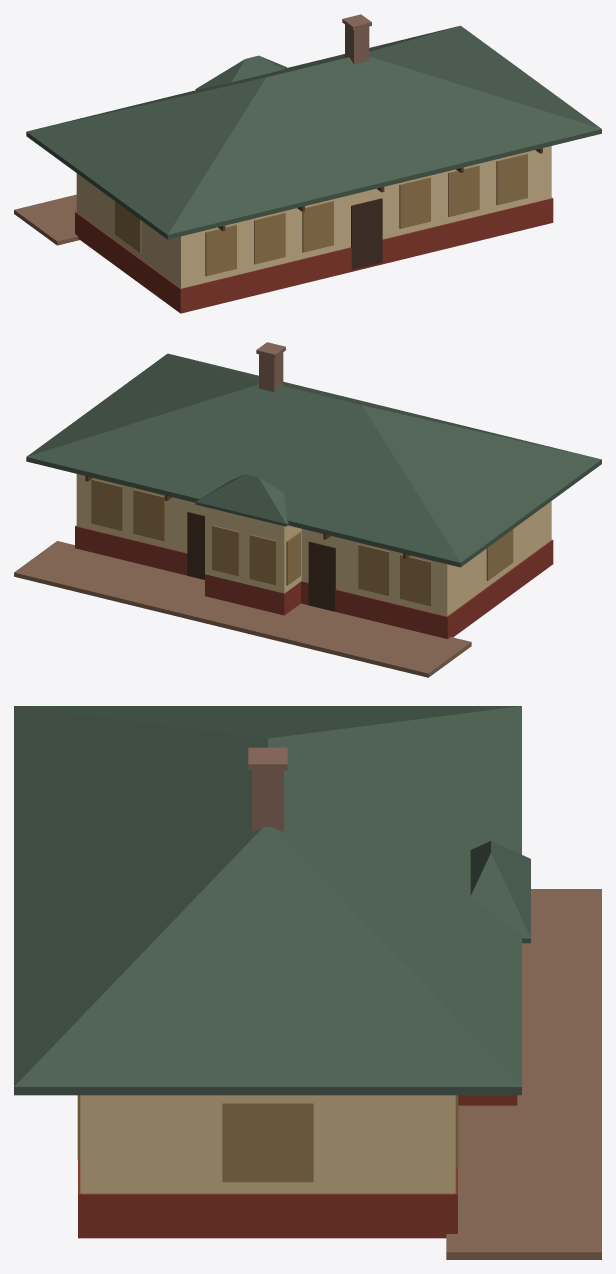
File: jasper_depot.glb
3 renders of one model, top to bottom at view 1: azimuth 30°, elevation 25°; view 2: azimuth 150°, elevation 25°; view 3: azimuth 270°, elevation 25°, orthographic. The views are drawn at different scales.
Parts seen in each view (by area): view 1: roof, wall, base, door_town, platform, window_town_3, window_town_1, window_town_5, window_town_2, window_town_0, window_town_4, bay_roof (+2 smaller); view 2: roof, platform, wall, base, bay_wall, bay_roof, bay, door_track_0, window_track_1, window_track_2, window_track_3, window_track_0 (+6 smaller); view 3: roof, platform, wall, base, window_e, bay_roof, chimney, chimney_cap.
Part boxes in pixels (left/top/right/bottom): roof: left=26, top=25, right=601, bottom=239; wall: left=76, top=146, right=551, bottom=288; base: left=75, top=197, right=553, bottom=313; door_town: left=351, top=198, right=382, bottom=269; platform: left=14, top=194, right=79, bottom=245; window_town_3: left=399, top=177, right=430, bottom=228; window_town_1: left=254, top=212, right=285, bottom=264; window_town_5: left=496, top=153, right=527, bottom=205; window_town_2: left=302, top=201, right=333, bottom=252; window_town_0: left=205, top=224, right=236, bottom=276; window_town_4: left=448, top=165, right=479, bottom=216; bay_roof: left=195, top=55, right=286, bottom=89; roof: left=26, top=353, right=601, bottom=567; platform: left=14, top=541, right=471, bottom=677; wall: left=76, top=474, right=551, bottom=616; base: left=75, top=525, right=553, bottom=638; bay_wall: left=205, top=507, right=301, bottom=593; bay_roof: left=195, top=474, right=288, bottom=526; bay: left=205, top=574, right=300, bottom=615; door_track_0: left=308, top=541, right=335, bottom=611; window_track_1: left=358, top=544, right=389, bottom=595; window_track_2: left=133, top=489, right=164, bottom=541; window_track_3: left=91, top=479, right=122, bottom=530; window_track_0: left=400, top=554, right=431, bottom=606; roof: left=14, top=706, right=521, bottom=1095; platform: left=446, top=889, right=601, bottom=1259; wall: left=80, top=1095, right=455, bottom=1193; base: left=78, top=1160, right=457, bottom=1238; window_e: left=222, top=1102, right=313, bottom=1182; bay_roof: left=470, top=841, right=530, bottom=943; chimney: left=252, top=770, right=283, bottom=831; chimney_cap: left=248, top=747, right=287, bottom=770.
Size of the model in its own units: 19.7 by 8.68 by 12.85.
